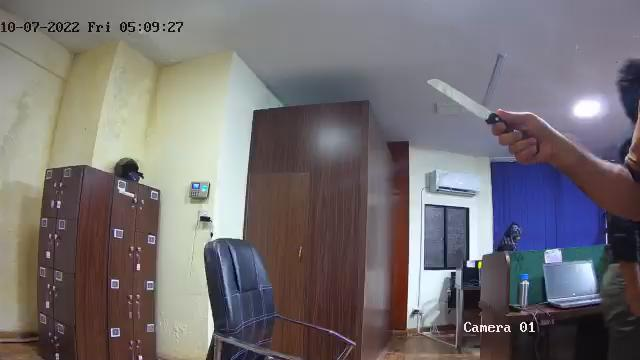knives: (426, 75, 540, 160)
